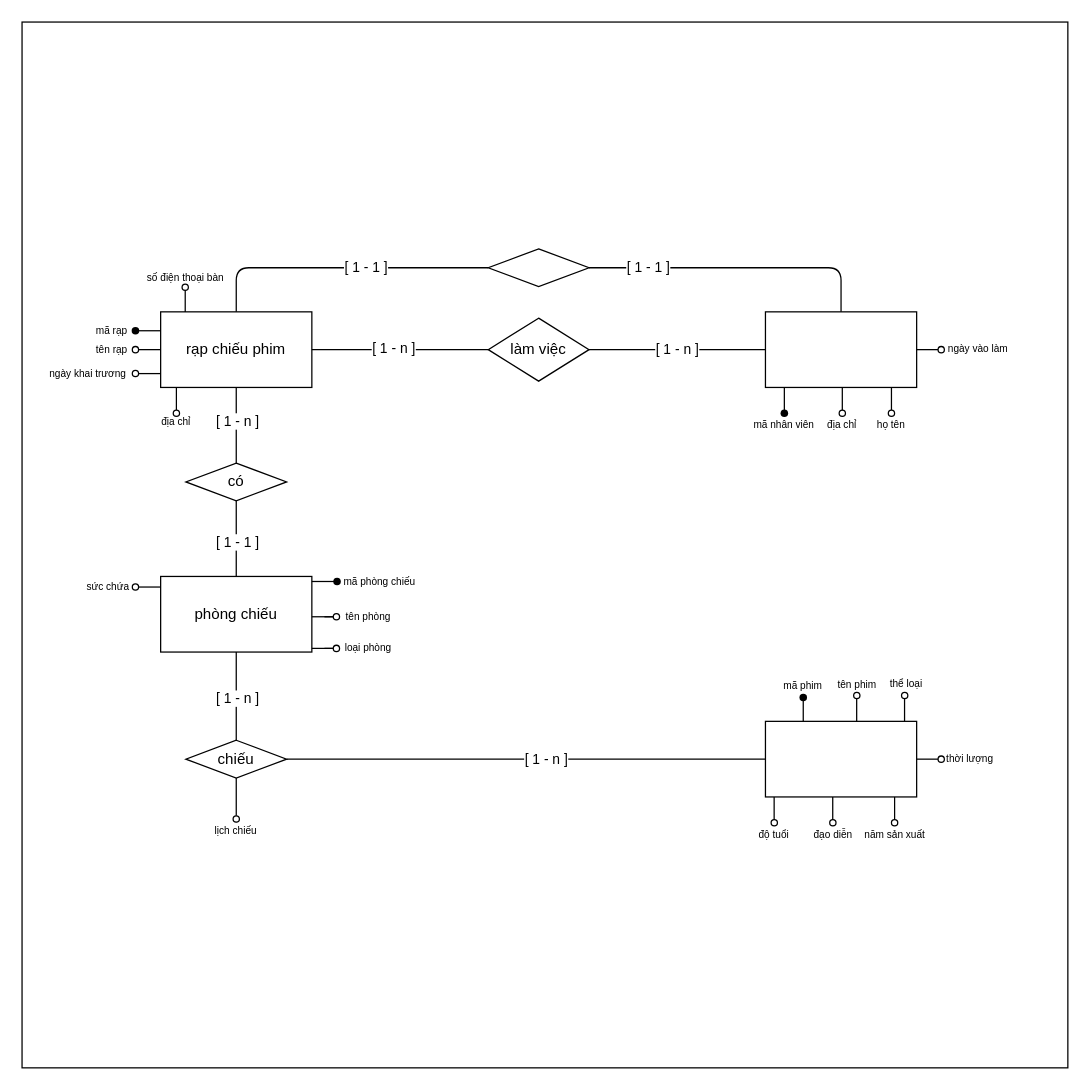
This 1090x1090 diagram has some shape labels left out. Here are the shapes that lost their labels. From the top down, the centre of each, then its label:
At point (538, 267): "quản lý".
At point (840, 349): "nhân viên".
At point (840, 758): "bộ phim".
